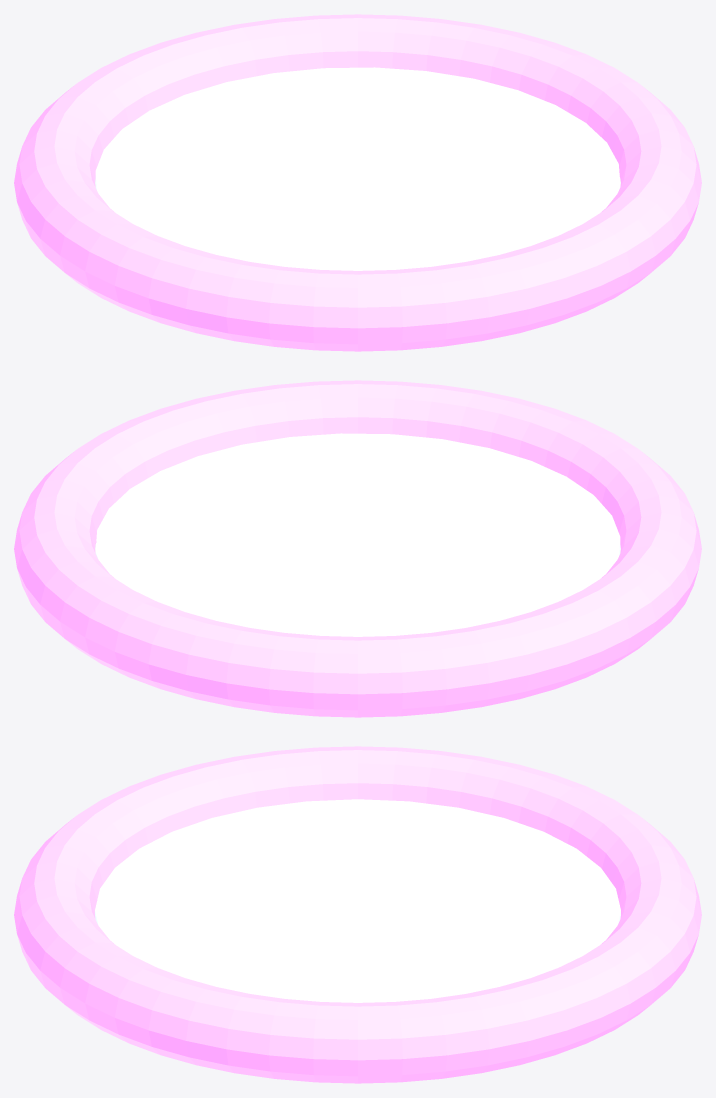
The model's file is portal.glb.
3 renders of one model, top to bottom at view 1: azimuth 30°, elevation 25°; view 2: azimuth 150°, elevation 25°; view 3: azimuth 270°, elevation 25°, orthographic.
Parts seen in each view (by area): view 1: Ring, InnerGlow; view 2: Ring, InnerGlow; view 3: Ring, InnerGlow.
Part boxes in pixels (x1,y1,x2,y2): Ring: (14, 14, 701, 351); InnerGlow: (95, 67, 620, 270); Ring: (14, 380, 701, 717); InnerGlow: (95, 433, 620, 636); Ring: (14, 746, 701, 1083); InnerGlow: (95, 799, 620, 1002).
Size of the model in its own units: 0.34 by 0.04 by 0.34.
